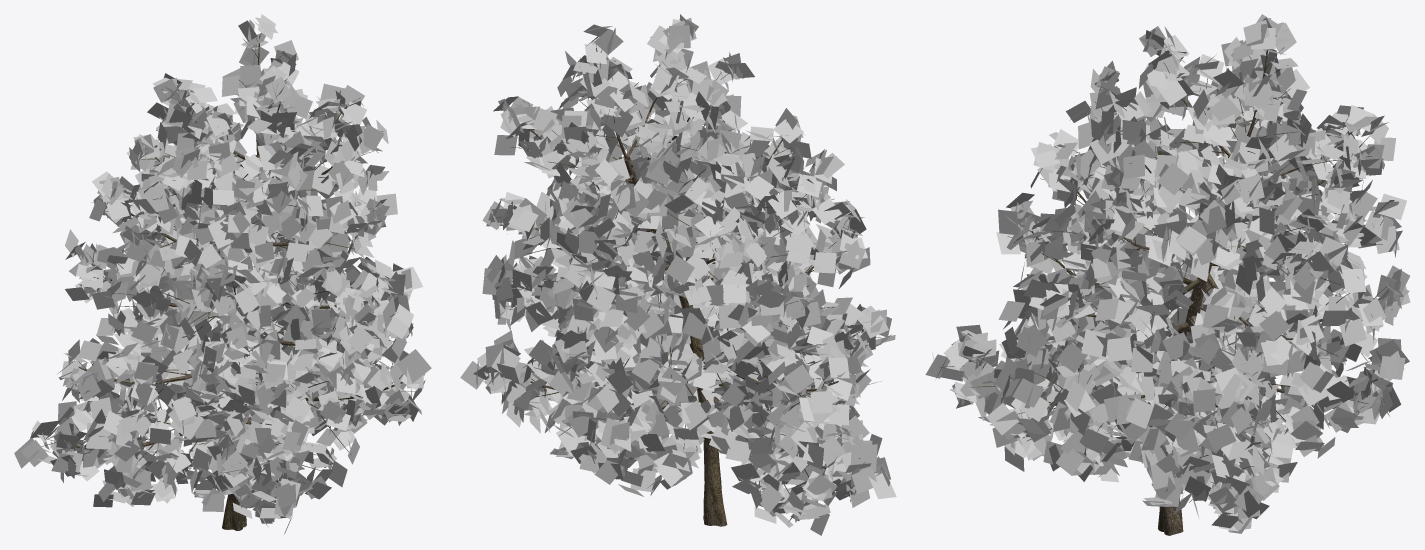
The model's file is SM_Tree_Wetland_019.FBX.
The picture shows the model from 3 angles, left to right: view 1: azimuth 30°, elevation 25°; view 2: azimuth 150°, elevation 25°; view 3: azimuth 270°, elevation 25°; orthographic projection. The views are drawn at different scales.
Parts seen in each view (by area): view 1: SM_Tree_Wetland_17_LOD0; view 2: SM_Tree_Wetland_17_LOD0; view 3: SM_Tree_Wetland_17_LOD0.
Boxes of the visible parts, box(x1,y1,x2,y2) form: SM_Tree_Wetland_17_LOD0: box(14, 14, 431, 534); SM_Tree_Wetland_17_LOD0: box(460, 14, 896, 535); SM_Tree_Wetland_17_LOD0: box(925, 14, 1410, 535).
Size of what is drawn, in the model's own units: 956 by 897 by 1113.
